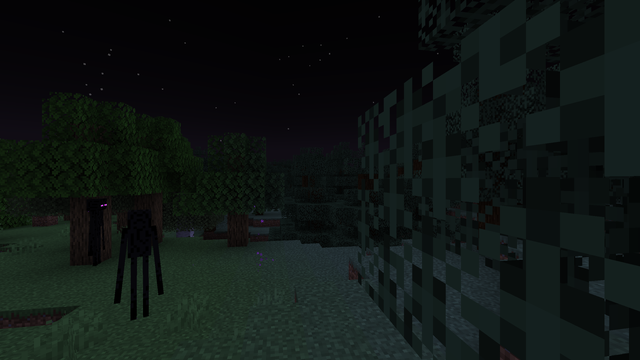endermens: (120, 205, 157, 323), (83, 196, 108, 266)
